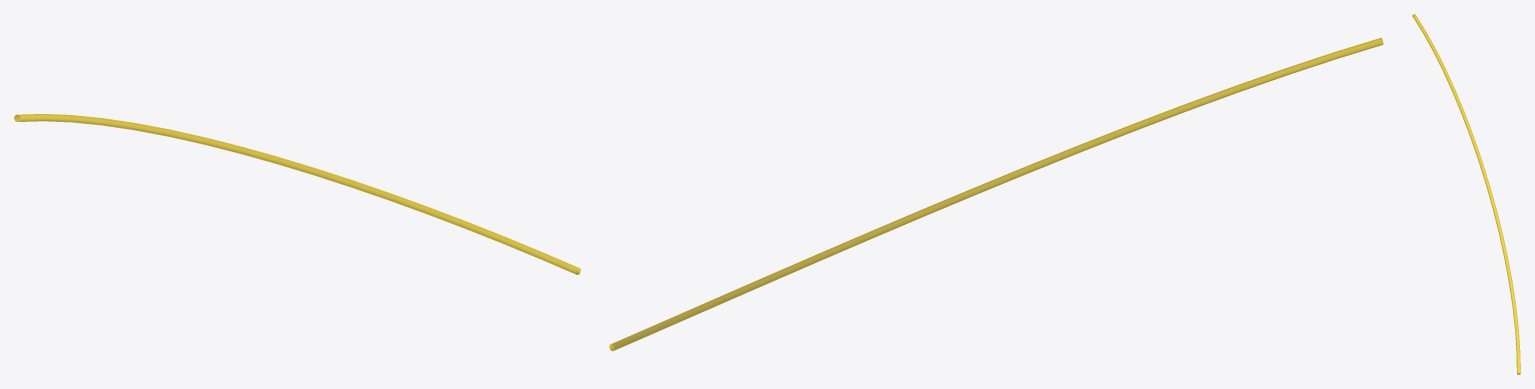
File: Event_40932208_track_10.fbx
3 views of the same model, side by side, from view 1: azimuth 30°, elevation 25°; view 2: azimuth 150°, elevation 25°; view 3: azimuth 270°, elevation 25° (orthographic). The views are drawn at different scales.
Visible parts, largest first — view 1: Model; view 2: Model; view 3: Model.
Boxes of the visible parts, bbox=[...] form: Model: bbox=[14, 114, 580, 274]; Model: bbox=[609, 37, 1383, 351]; Model: bbox=[1412, 14, 1520, 374].
Size of the model in its own units: 4.15 by 2.36 by 1.16.
